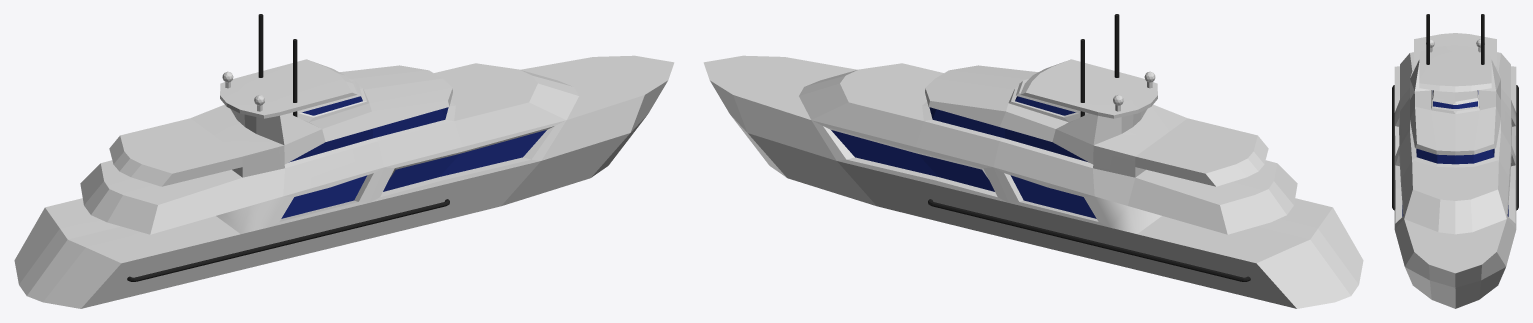
File: myYacht.fbx
The picture shows the model from 3 angles, left to right: view 1: azimuth 30°, elevation 25°; view 2: azimuth 150°, elevation 25°; view 3: azimuth 270°, elevation 25°; orthographic projection. The views are drawn at different scales.
Parts seen in each view (by area): view 1: zzzYacht_Cube.002; view 2: zzzYacht_Cube.002; view 3: zzzYacht_Cube.002.
Part boxes in pixels (left/top/right/bottom): zzzYacht_Cube.002: left=14, top=14, right=674, bottom=308; zzzYacht_Cube.002: left=703, top=14, right=1363, bottom=308; zzzYacht_Cube.002: left=1392, top=14, right=1518, bottom=308.
Size of the model in its own units: 629 by 192 by 134.
